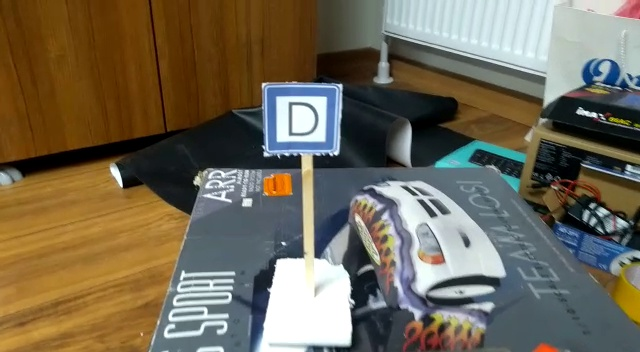durak: (261, 81, 339, 156)
